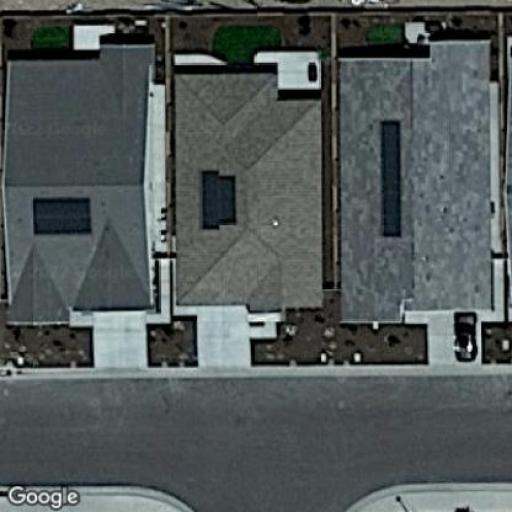solar-panel: (377, 116, 407, 238), (29, 194, 94, 238), (197, 167, 240, 233)
